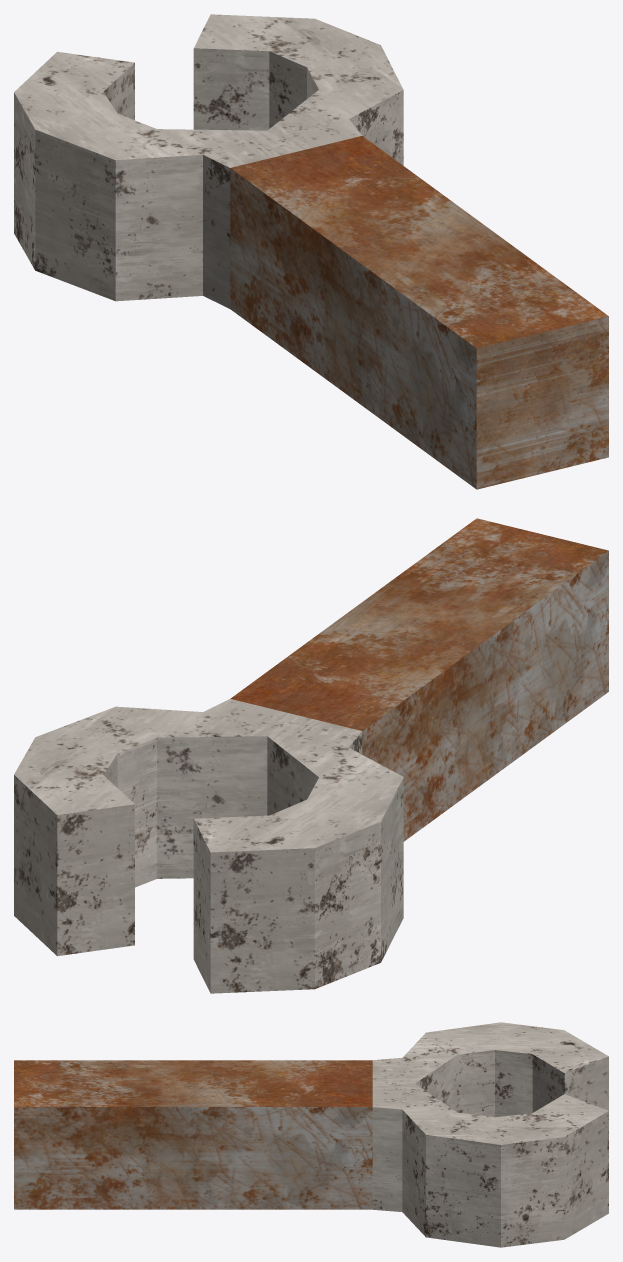
File: hand.glb
3 views of the same model, one above another, from view 1: azimuth 30°, elevation 25°; view 2: azimuth 150°, elevation 25°; view 3: azimuth 270°, elevation 25° (orthographic). The views are drawn at different scales.
Visible parts, largest first — view 1: Cube; view 2: Cube; view 3: Cube.
Boxes of the visible parts, x1,y1,x2,y2 form: Cube: [14, 14, 608, 489]; Cube: [14, 518, 608, 993]; Cube: [14, 1022, 608, 1247].
Size of the model in its own units: 0.8596 by 0.3353 by 1.76.
2 materials, 2 textured.
